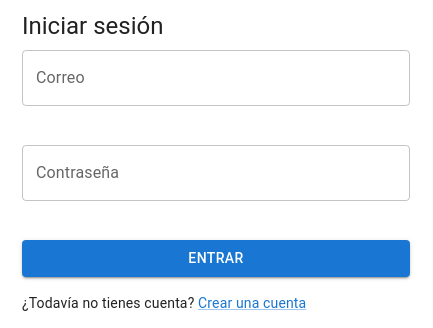
it: SignInPage › no manda nada si el correo no tiene forma de correo
Type "no-es-correo" into the field labelled "Correo" at (216, 78), box [22, 50, 410, 106]
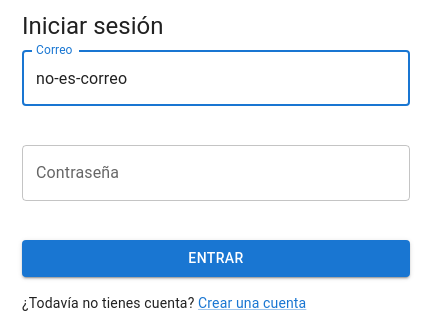
Type "BrumaCafe2026!" into the password field labelled "Contraseña" at (216, 173), box [22, 145, 410, 201]
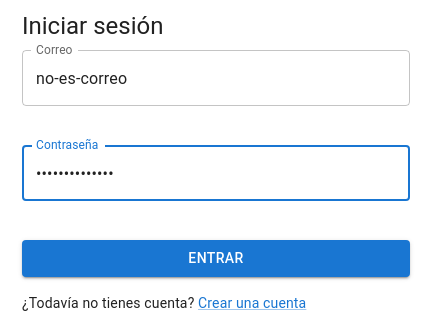
Click the button "Entrar" at (216, 258), box [22, 240, 410, 277]
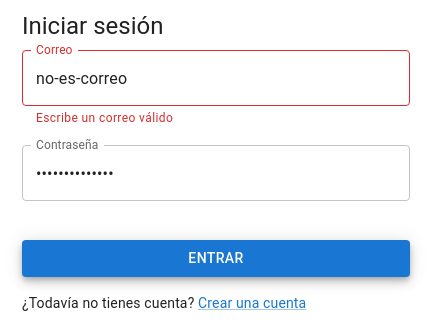
Expected: the text "Escribe un correo válido" is shown, [36, 111, 173, 125]
